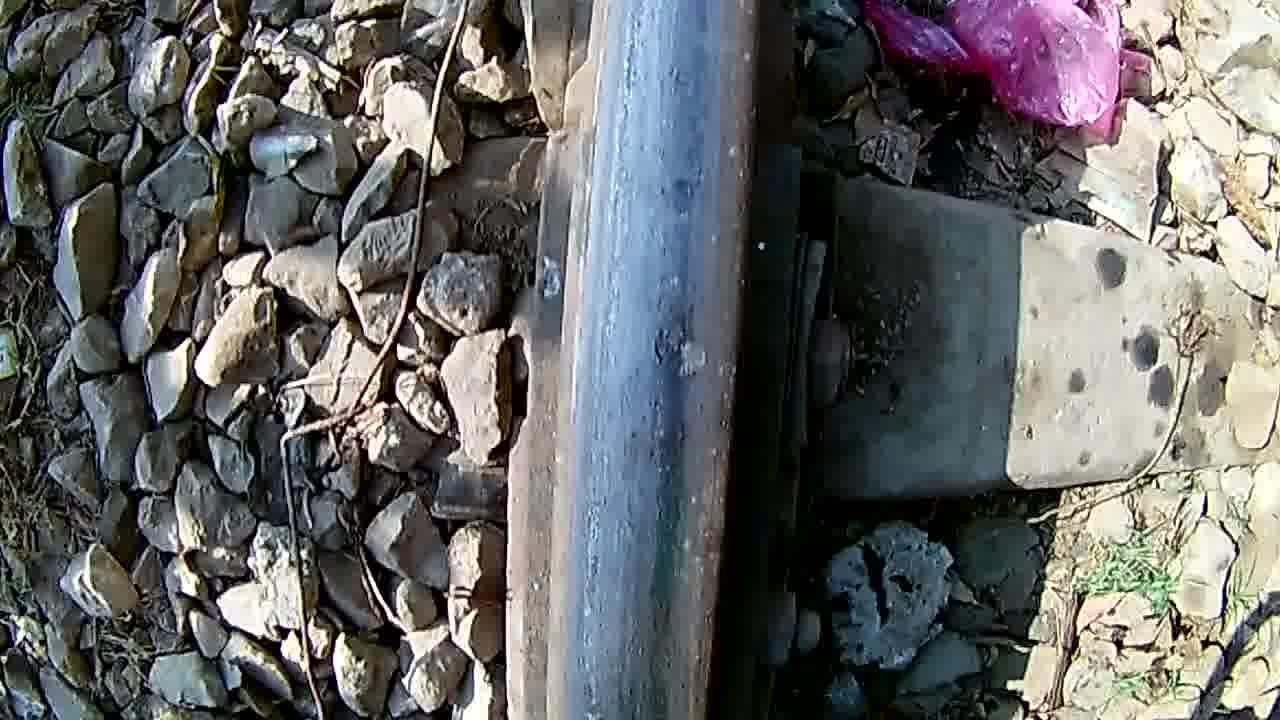crack: (590, 3, 758, 695)
